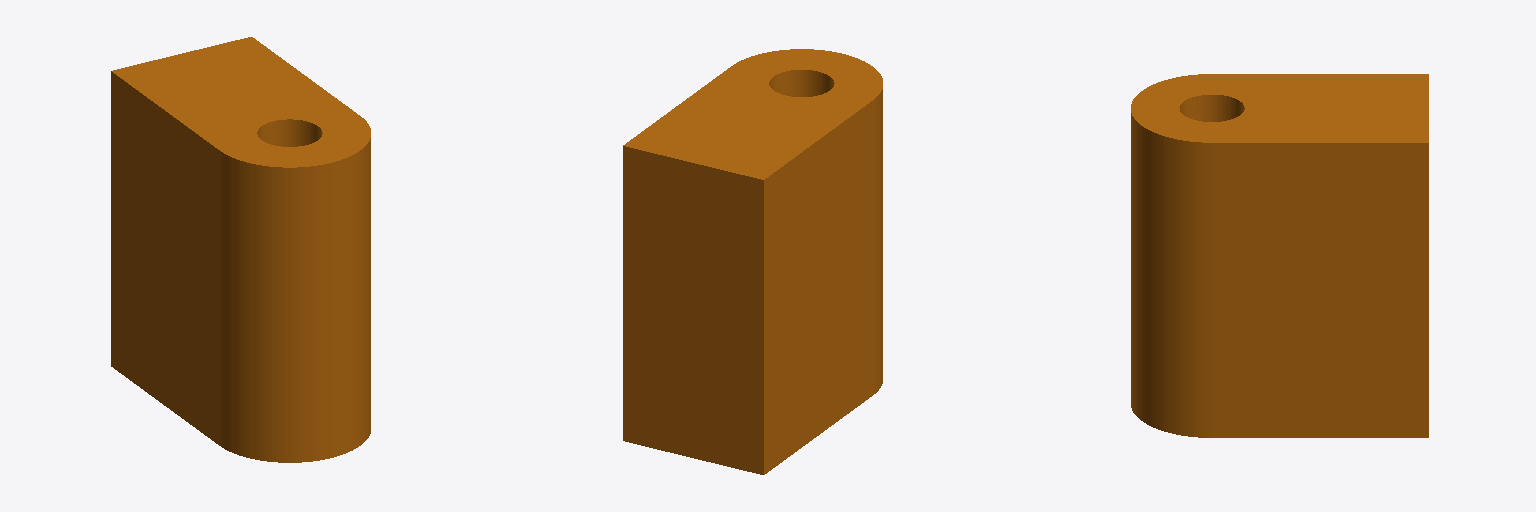
The model's file is E3-ActFin08-p01.obj.
3 views of the same model, side by side, from view 1: azimuth 30°, elevation 25°; view 2: azimuth 150°, elevation 25°; view 3: azimuth 270°, elevation 25° (orthographic).
Visible parts, largest first — view 1: mesh5, mesh6, mesh1, mesh0; view 2: mesh3, mesh6, mesh1, mesh5, mesh0; view 3: mesh4, mesh5, mesh1, mesh0.
Boxes of the visible parts, box(x1,y1,x2,y2) form: mesh5: box(219, 138, 370, 462); mesh6: box(111, 71, 218, 444); mesh1: box(112, 37, 370, 167); mesh0: box(257, 119, 322, 146); mesh3: box(623, 146, 763, 474); mesh6: box(764, 101, 871, 474); mesh1: box(623, 49, 882, 179); mesh5: box(872, 89, 882, 395); mesh0: box(769, 70, 834, 96); mesh4: box(1212, 143, 1428, 437); mesh5: box(1131, 113, 1211, 437); mesh1: box(1131, 74, 1428, 142); mesh0: box(1180, 95, 1244, 121).
Bounding box in the file's own units: 0.03 × 0.06 × 0.055.